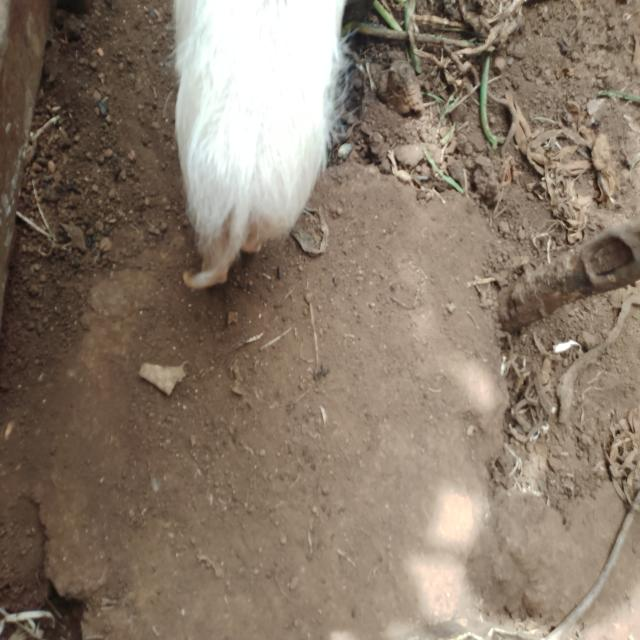pig: (129, 0, 394, 318)
